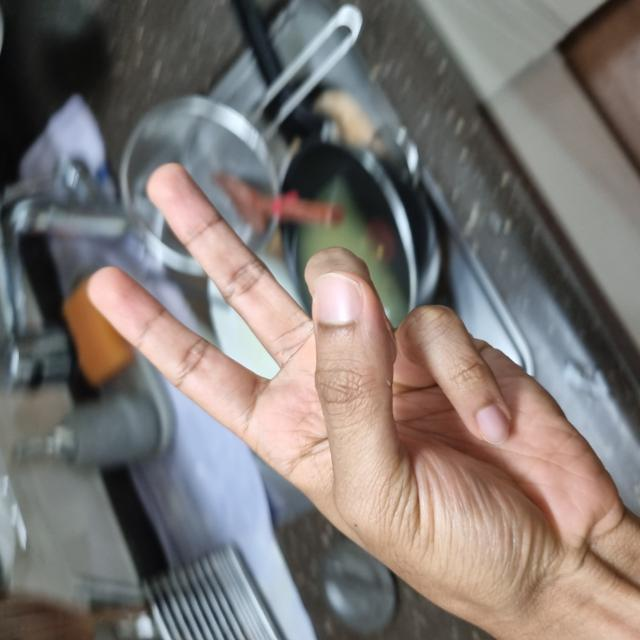Scissors: (1, 82, 471, 630)
